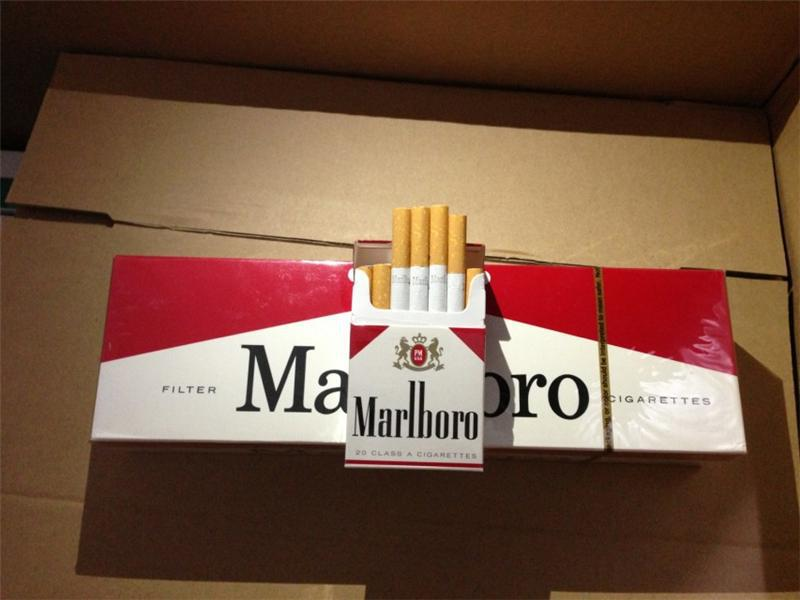marlboro_red: (346, 281, 487, 469)
